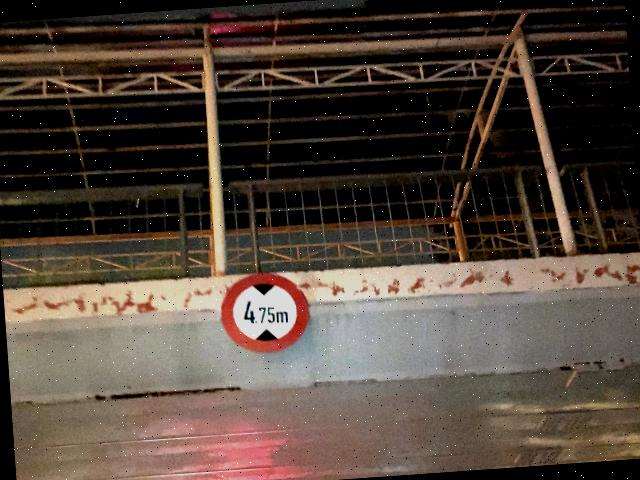han-che-chieu-cao: (218, 268, 312, 356)
